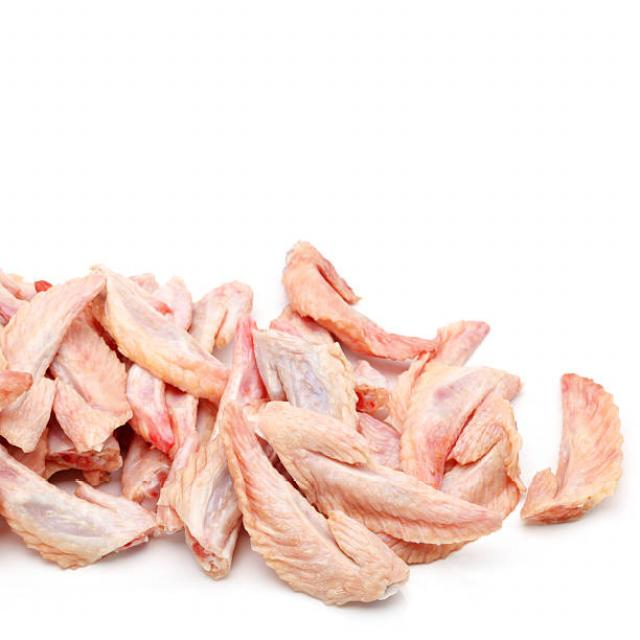Chicken: (220, 419, 408, 607), (281, 230, 458, 366), (519, 364, 630, 538)
